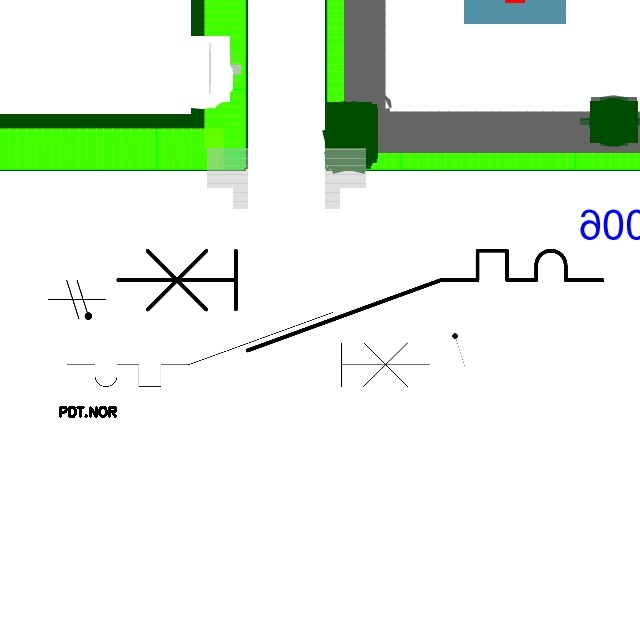interruptor_termomagnetico: (105, 238, 614, 362), (58, 303, 439, 396)
